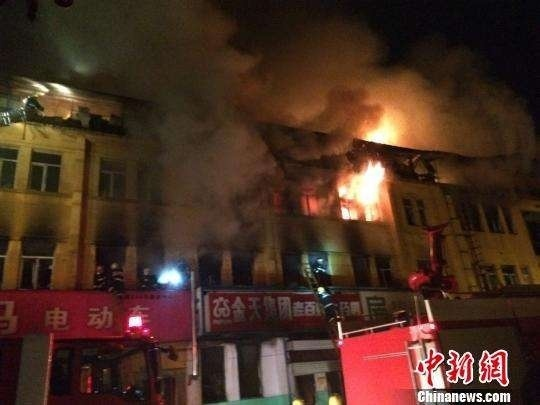fire: (335, 147, 393, 220), (359, 111, 402, 146)
